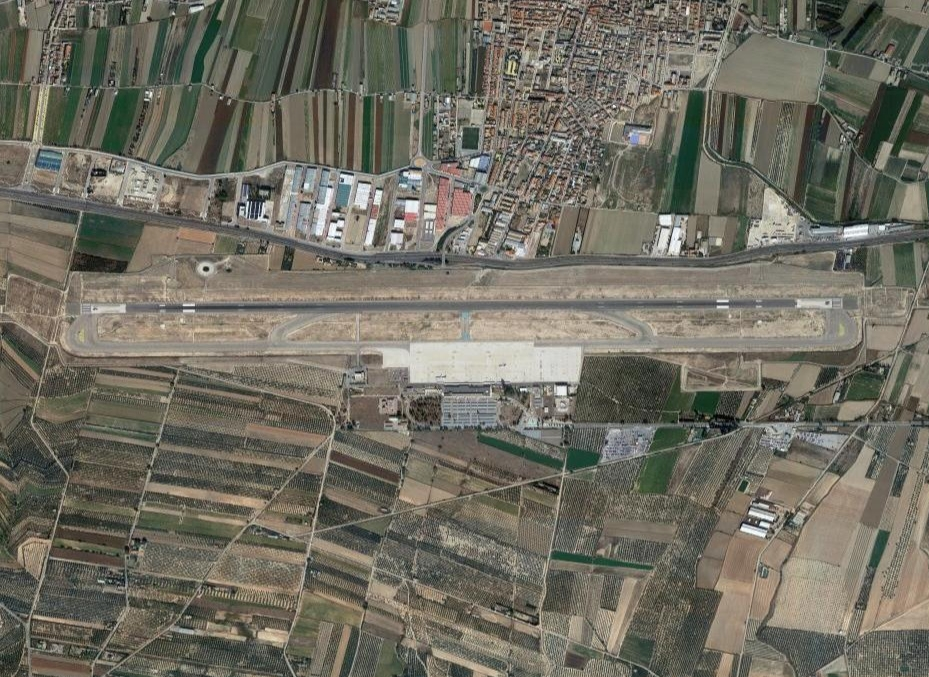airport: (59, 292, 864, 427)
industrial: (279, 167, 384, 245)
motorway: (104, 198, 213, 239), (215, 217, 323, 258), (325, 237, 433, 278), (434, 239, 542, 280), (542, 240, 650, 281), (650, 241, 758, 282), (757, 227, 865, 268), (1, 177, 108, 218), (864, 220, 929, 256)
